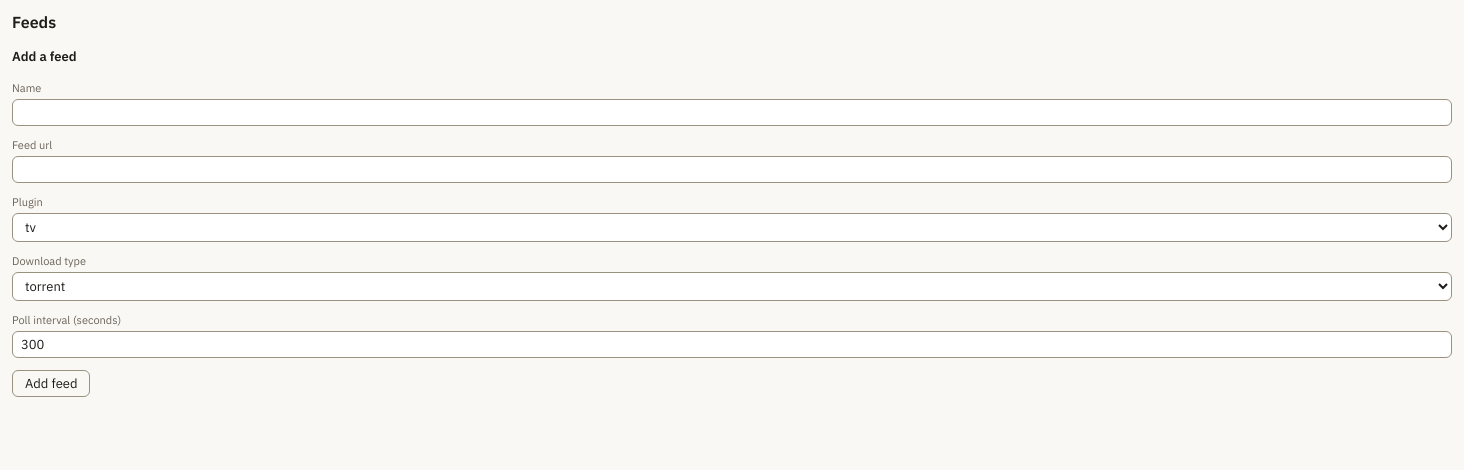
the error is a visible heading, not only an announced one
Type "X" into the field labelled "Name" at (732,112), box [12,99,1452,126]
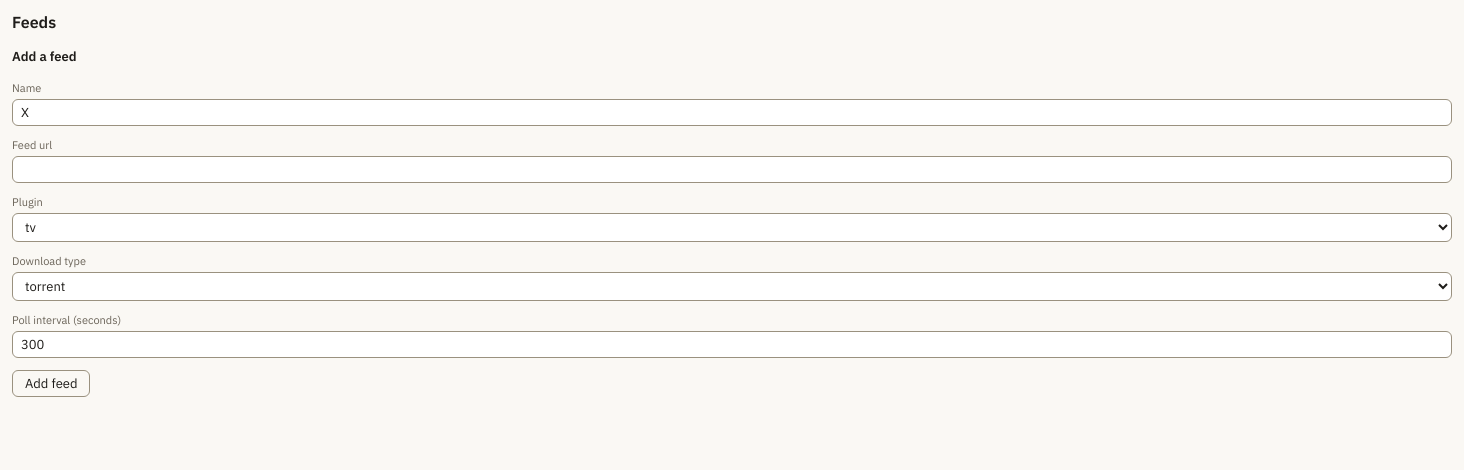
Type "https://tracker.example/rss" into the field labelled "Feed url" at (732,170), box [12,156,1452,183]
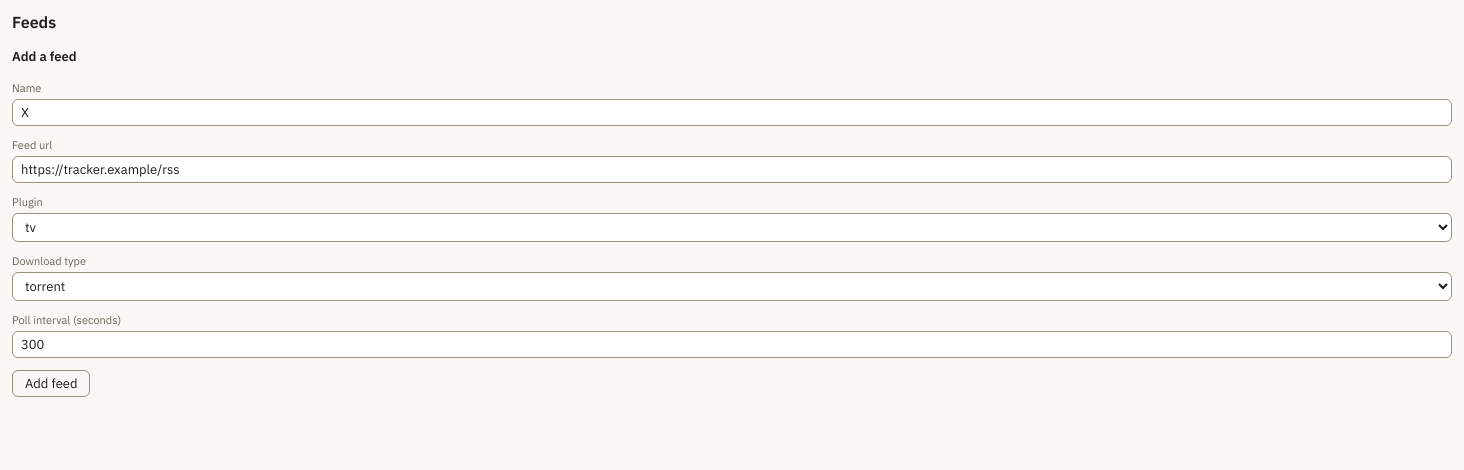
Click the button "Add feed" at (51,384), box [12,370,90,397]
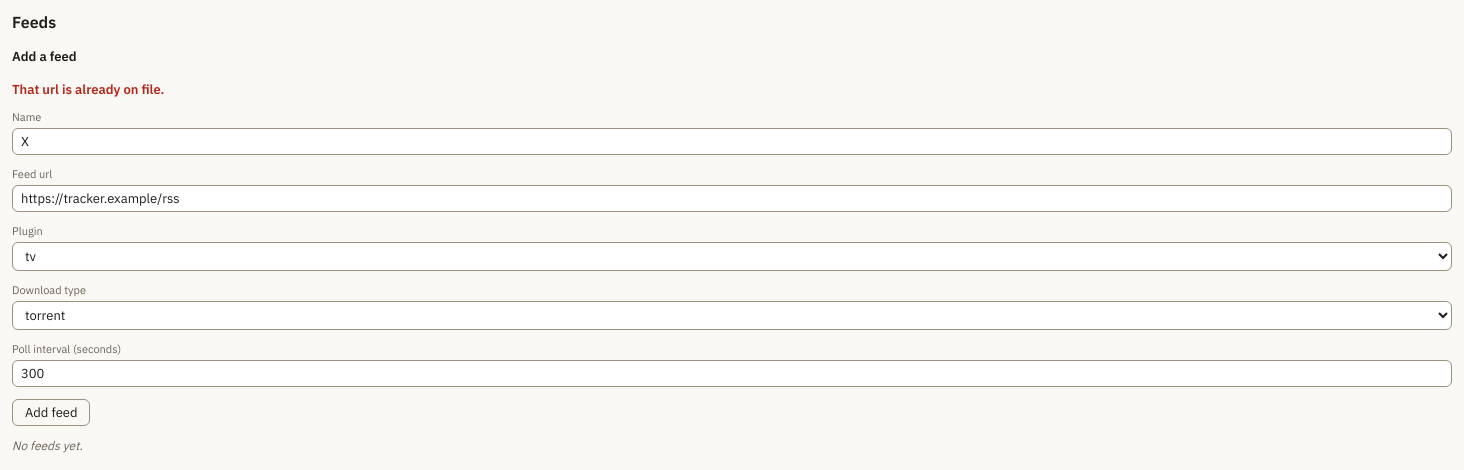
Expected: the heading "That url is already on file." is shown, [12,81,164,98]
